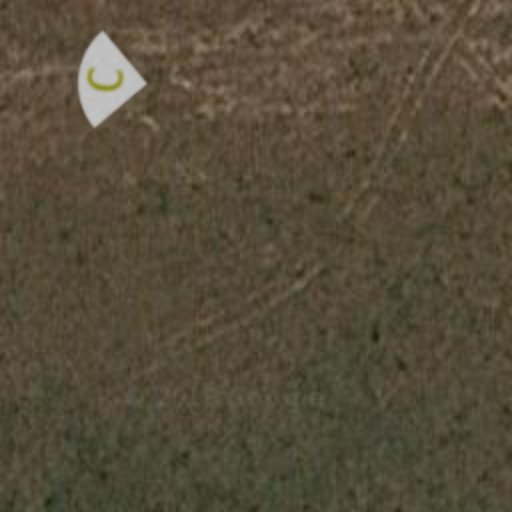quarter_circle: (54, 28, 158, 132)
